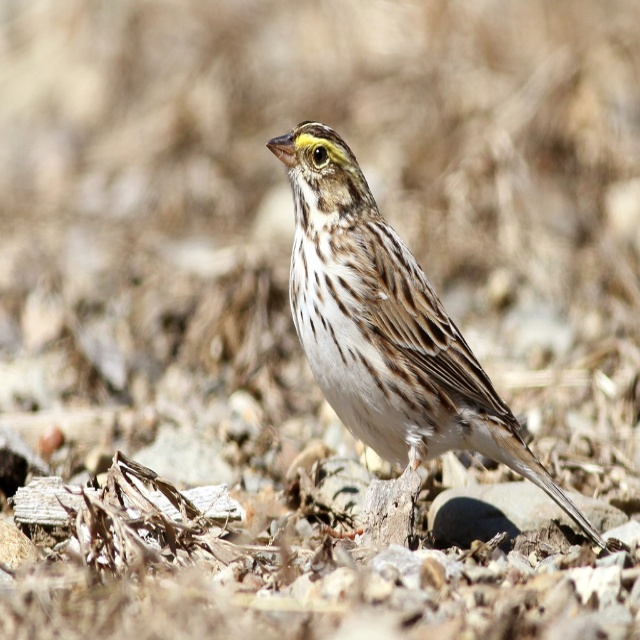Sparrow: (265, 119, 609, 574)
